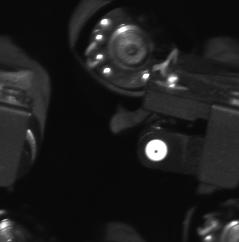fiber: (139, 135, 174, 166)
